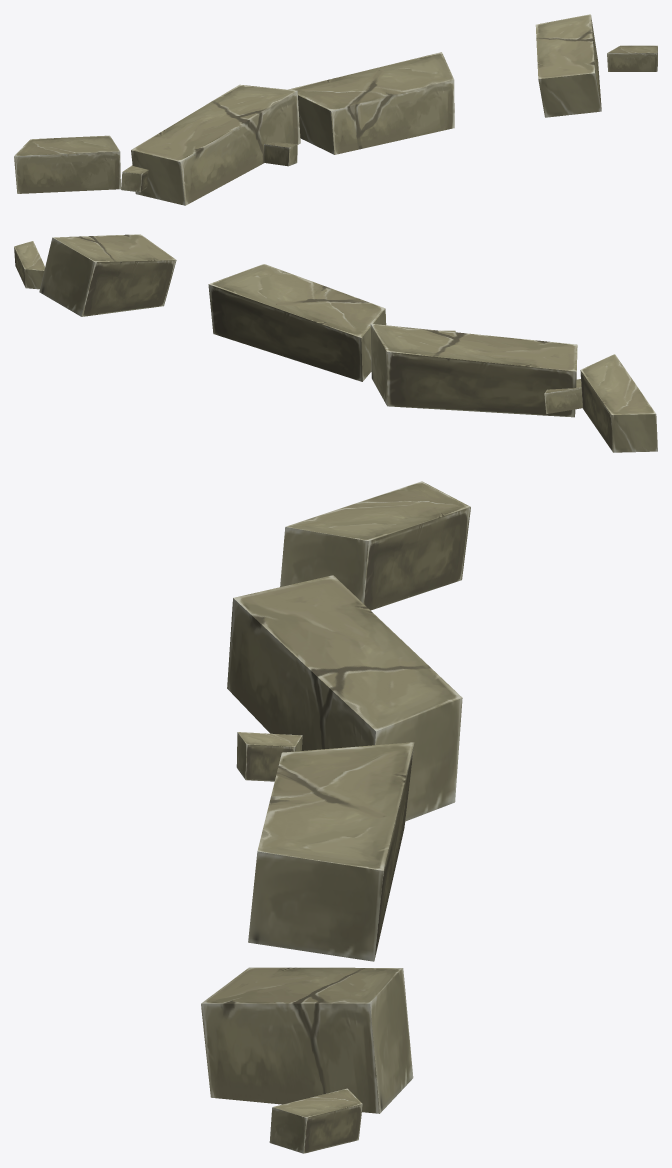
Rendered from wallrocks_top2.fbx.
3 views of the same model, one above another, from view 1: azimuth 30°, elevation 25°; view 2: azimuth 150°, elevation 25°; view 3: azimuth 270°, elevation 25° (orthographic). The views are drawn at different scales.
Parts seen in each view (by area): view 1: rocks2; view 2: rocks2; view 3: rocks2.
Part boxes in pixels (bbox=[...]): rocks2: bbox=[14, 14, 657, 205]; rocks2: bbox=[14, 234, 657, 452]; rocks2: bbox=[201, 481, 470, 1153].
Bounding box in the file's own units: 1.87 × 0.1889 × 0.3551.
